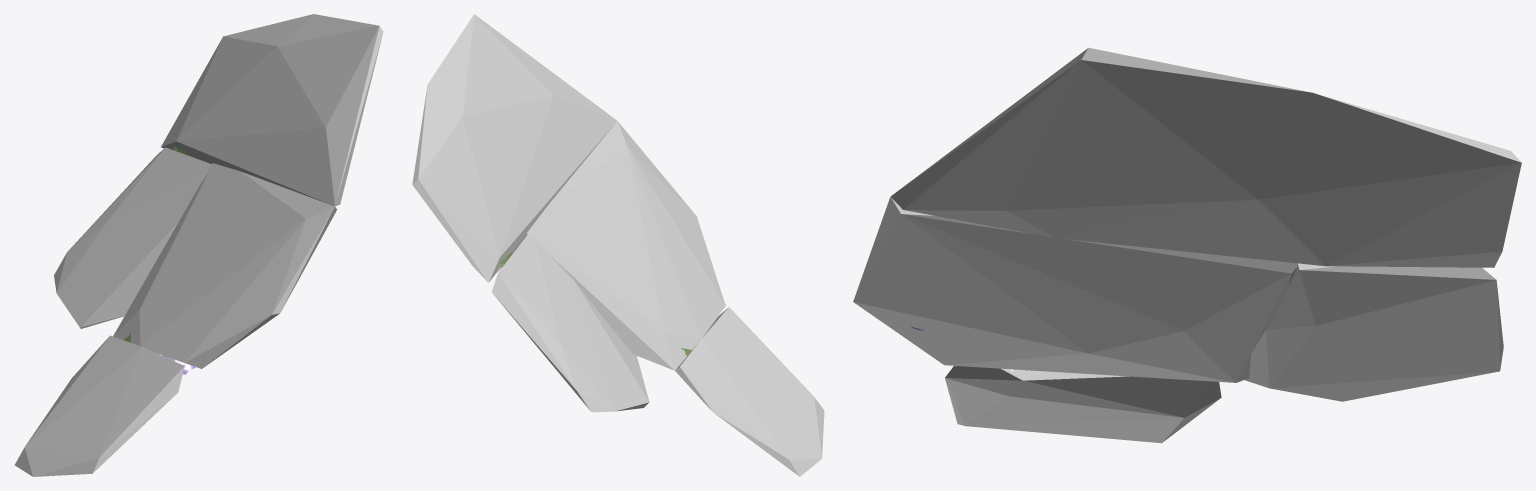
File: SM_Env_Vines_Preset_Roof_Concave_01.fbx
The picture shows the model from 3 angles, left to right: view 1: azimuth 30°, elevation 25°; view 2: azimuth 150°, elevation 25°; view 3: azimuth 270°, elevation 25°; orthographic projection. The views are drawn at different scales.
Visible parts, largest first — view 1: SM_Env_Vines_Preset_Roof_Concave_01_ConvexHulls; view 2: SM_Env_Vines_Preset_Roof_Concave_01_ConvexHulls; view 3: SM_Env_Vines_Preset_Roof_Concave_01_ConvexHulls.
Part boxes in pixels (box(x1,y1,x2,y2)): SM_Env_Vines_Preset_Roof_Concave_01_ConvexHulls: box(15, 14, 383, 476); SM_Env_Vines_Preset_Roof_Concave_01_ConvexHulls: box(412, 14, 824, 476); SM_Env_Vines_Preset_Roof_Concave_01_ConvexHulls: box(853, 47, 1521, 443).
Size of the model in its own units: 212 by 176 by 213.
Materials: 3 (2 with a texture image).
